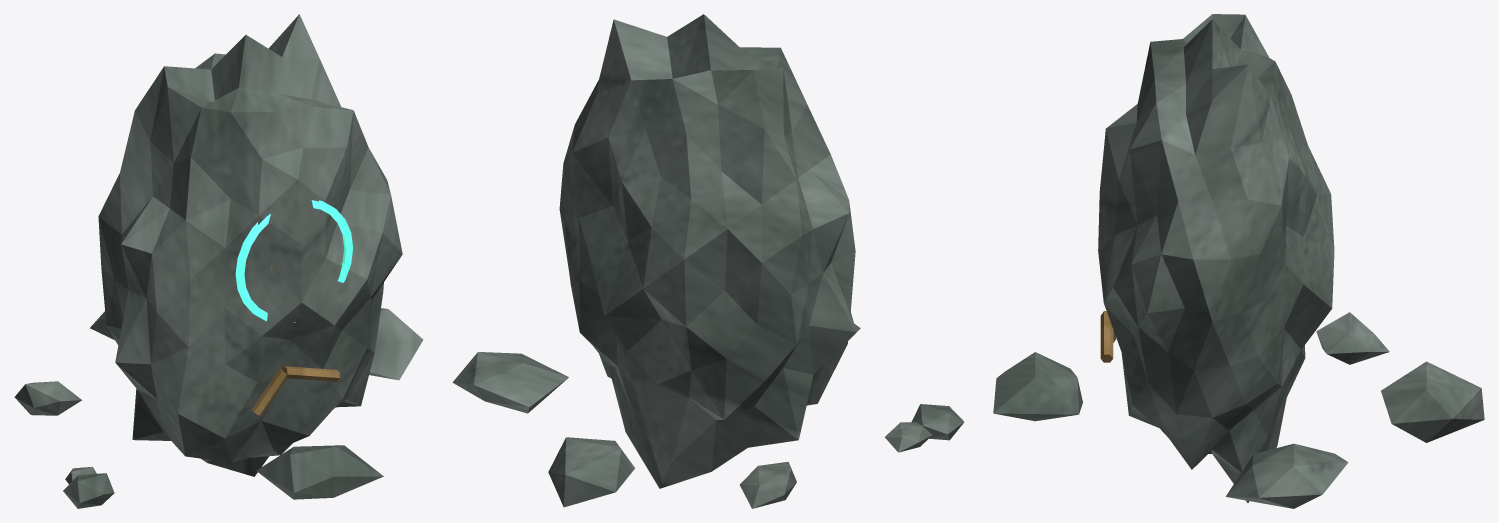
File: 0668_waystone_18.glb
3 renders of one model, left to right at view 1: azimuth 30°, elevation 25°; view 2: azimuth 150°, elevation 25°; view 3: azimuth 270°, elevation 25°, orthographic. The views are drawn at different scales.
Visible parts, largest first — view 1: stone, glow, brass; view 2: stone; view 3: stone, brass.
Boxes of the visible parts, box(x1,y1,x2,y2) form: stone: box(14, 14, 423, 508); glow: box(235, 200, 352, 322); brass: box(251, 263, 339, 416); stone: box(452, 14, 964, 508); stone: box(993, 14, 1484, 508); brass: box(1100, 311, 1116, 362).
Bounding box in the file's own units: 1.57 × 1.68 × 1.58.
3 materials, 3 textured.
